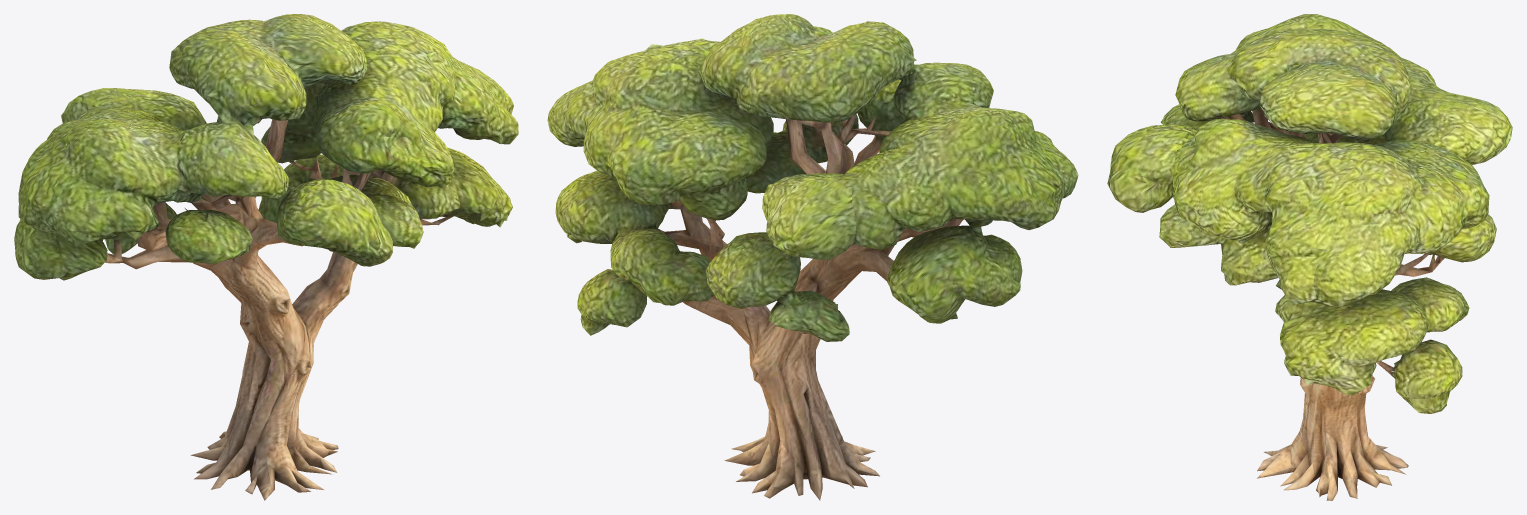
File: broadleaf.glb
3 views of the same model, side by side, from view 1: azimuth 30°, elevation 25°; view 2: azimuth 150°, elevation 25°; view 3: azimuth 270°, elevation 25° (orthographic). The views are drawn at different scales.
Parts seen in each view (by area): view 1: model; view 2: model; view 3: model.
Boxes of the visible parts, box(x1,y1,x2,y2) form: model: box(14, 14, 518, 500); model: box(547, 14, 1078, 500); model: box(1107, 14, 1512, 500).
Size of the model in its own units: 8.28 by 7 by 6.15.
Materials: 1 (1 with a texture image).
